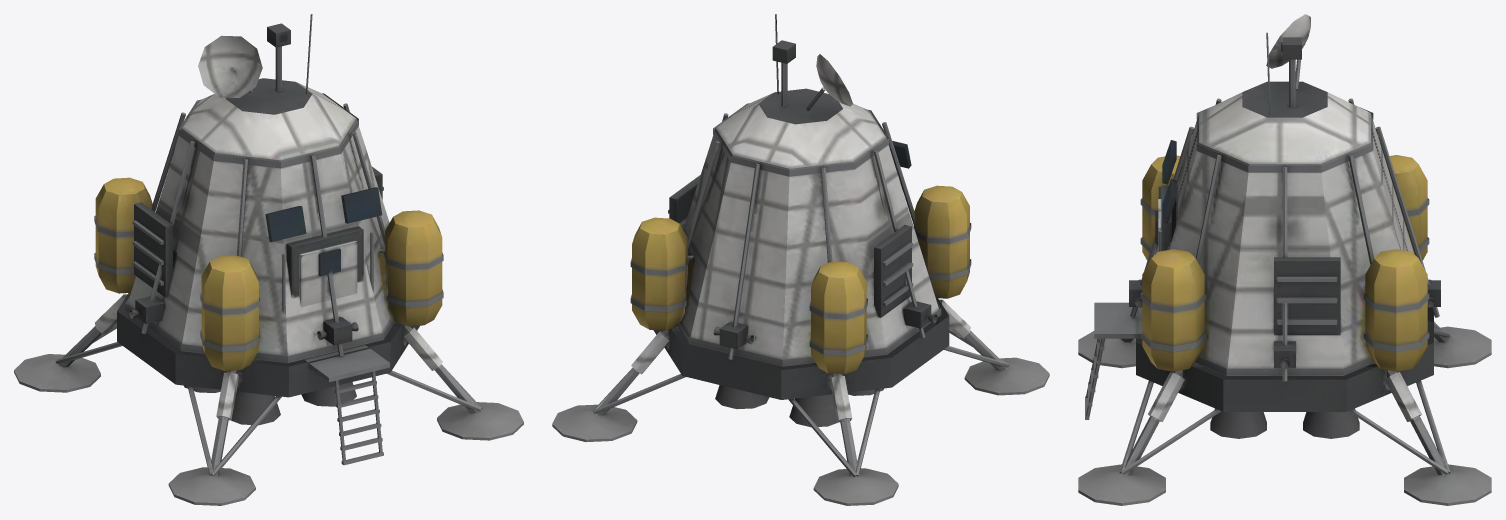
Rendered from lander.glb.
The picture shows the model from 3 angles, left to right: view 1: azimuth 30°, elevation 25°; view 2: azimuth 150°, elevation 25°; view 3: azimuth 270°, elevation 25°; orthographic projection. The views are drawn at different scales.
Parts seen in each view (by area): view 1: Lander_Body; view 2: Lander_Body; view 3: Lander_Body.
Part boxes in pixels (<box>): Lander_Body: <box>14,14,523,505</box>; Lander_Body: <box>552,14,1049,505</box>; Lander_Body: <box>1078,14,1491,505</box>.
Bounding box in the file's own units: 5.62 × 5.97 × 5.56.
2 materials, 2 textured.
